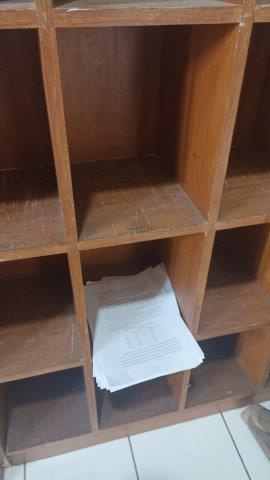kertas: (82, 267, 205, 386)
